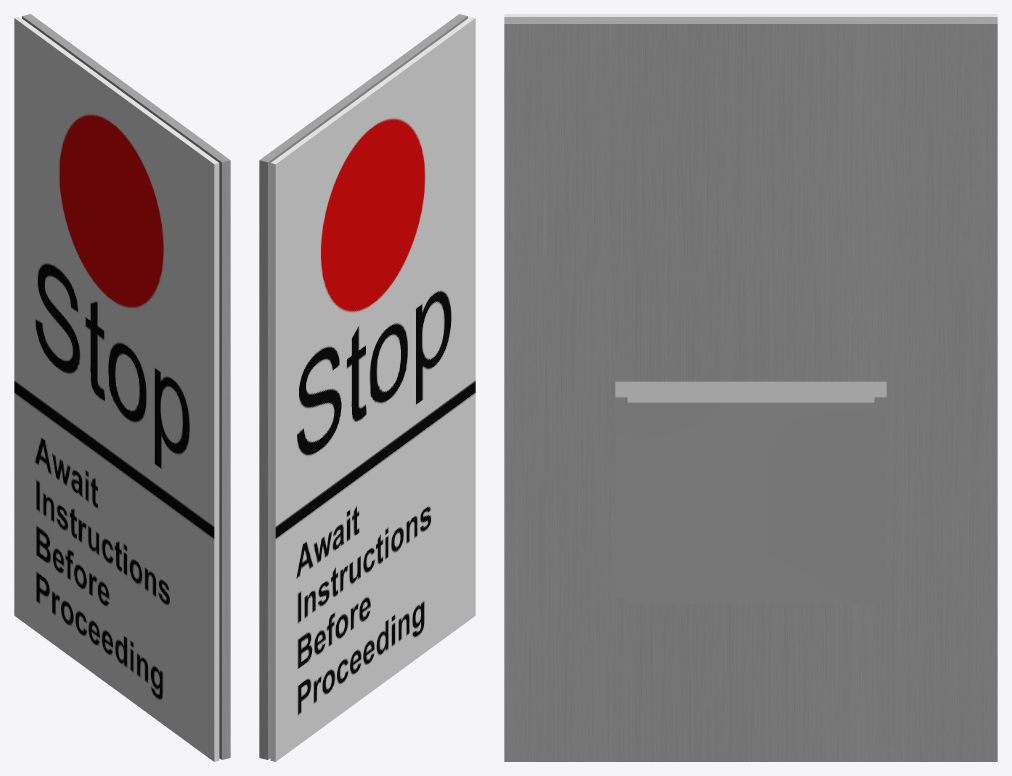
Rendered from stop_await_instructions_before_proceeding.obj.
3 renders of one model, left to right at view 1: azimuth 30°, elevation 25°; view 2: azimuth 150°, elevation 25°; view 3: azimuth 270°, elevation 25°, orthographic. The views are drawn at different scales.
Parts seen in each view (by area): view 1: cube; view 2: cube; view 3: cube.
Part boxes in pixels (<box>): cube: <box>14,14,230,761</box>; cube: <box>259,14,475,761</box>; cube: <box>504,14,997,761</box>.
Bounding box in the file's own units: 0.0922 × 1.03 × 0.625.
Materials: 2 (2 with a texture image).
